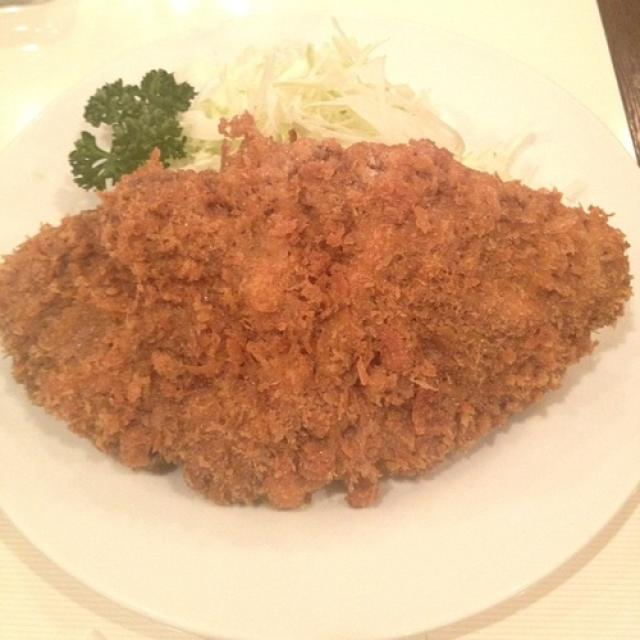炸货点心: (5, 28, 634, 599)
